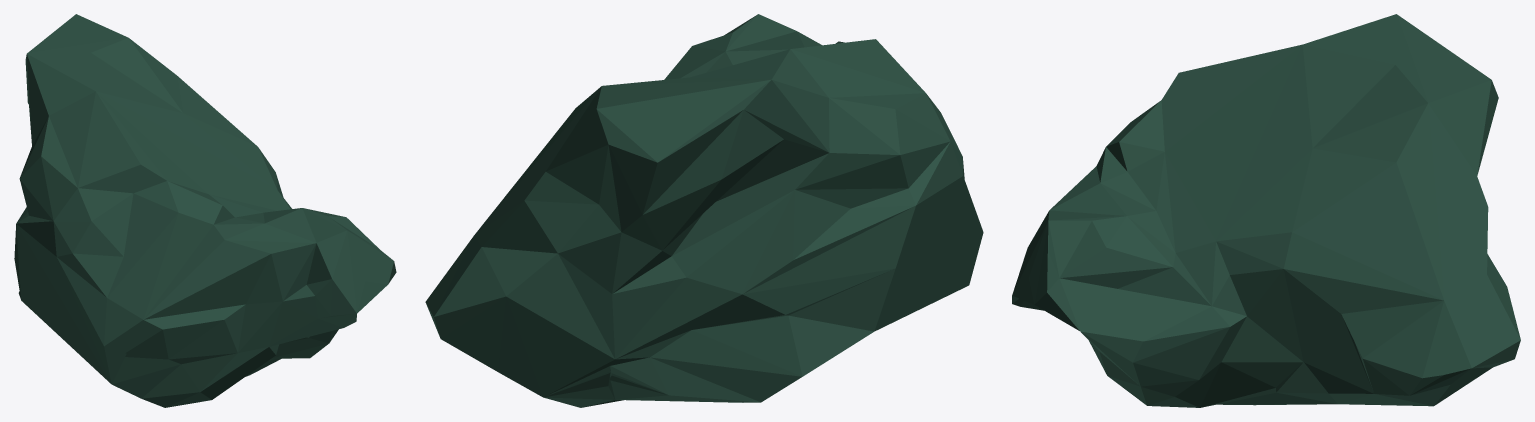
The model's file is SM_large_rock_16.fbx.
3 views of the same model, side by side, from view 1: azimuth 30°, elevation 25°; view 2: azimuth 150°, elevation 25°; view 3: azimuth 270°, elevation 25° (orthographic). The views are drawn at different scales.
Visible parts, largest first — view 1: large_rock_16; view 2: large_rock_16; view 3: large_rock_16.
Part boxes in pixels (x1=…): large_rock_16: x1=14, y1=14, x2=396, y2=407; large_rock_16: x1=425, y1=14, x2=983, y2=407; large_rock_16: x1=1012, y1=14, x2=1520, y2=407.
Size of the model in its own units: 58.57 by 55.24 by 77.44.
